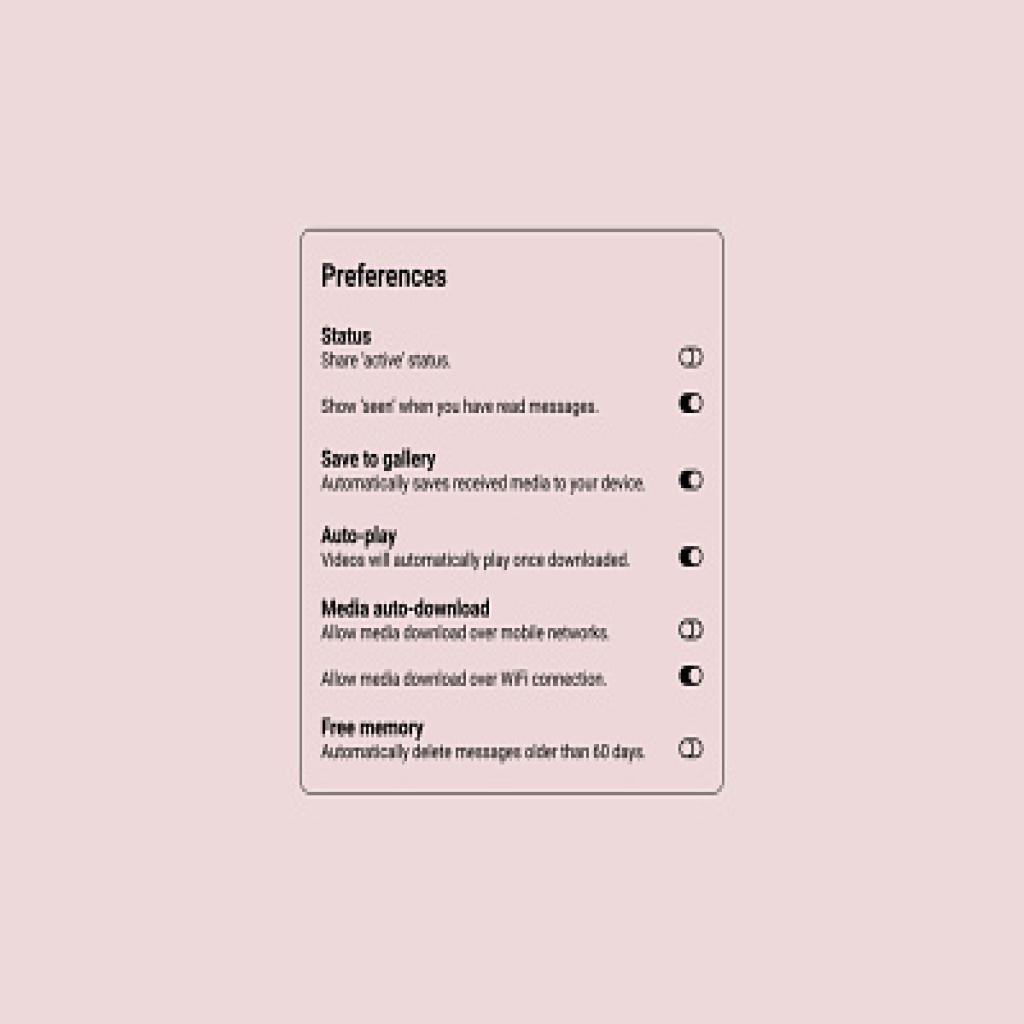switch: (676, 342, 713, 373), (677, 660, 711, 691), (676, 463, 707, 496), (677, 542, 709, 573), (678, 733, 706, 767), (677, 390, 708, 420), (680, 618, 707, 647)
